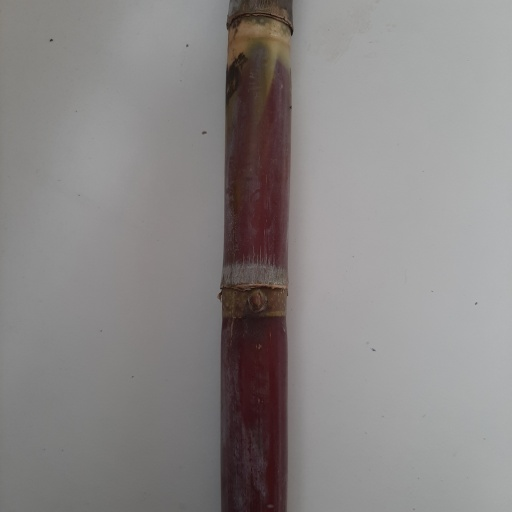Bud: (245, 287, 268, 314)
